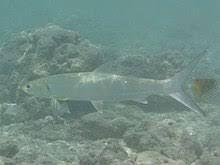Tenpounder: (20, 51, 210, 121)
